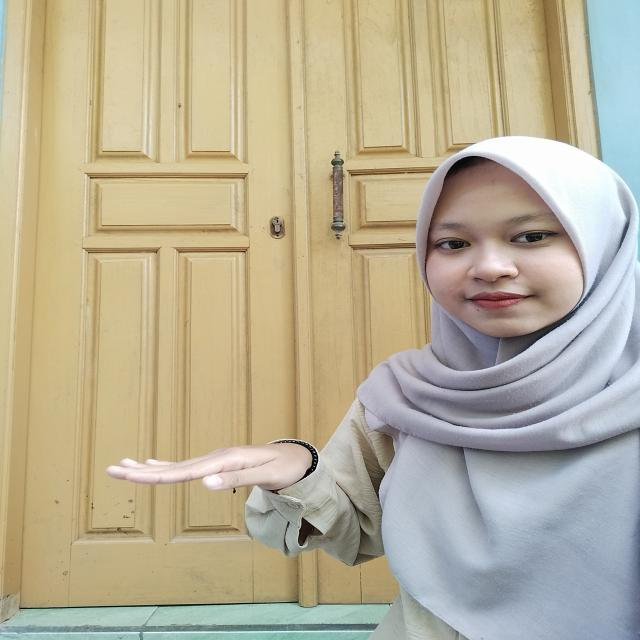adik: (94, 426, 336, 530)
